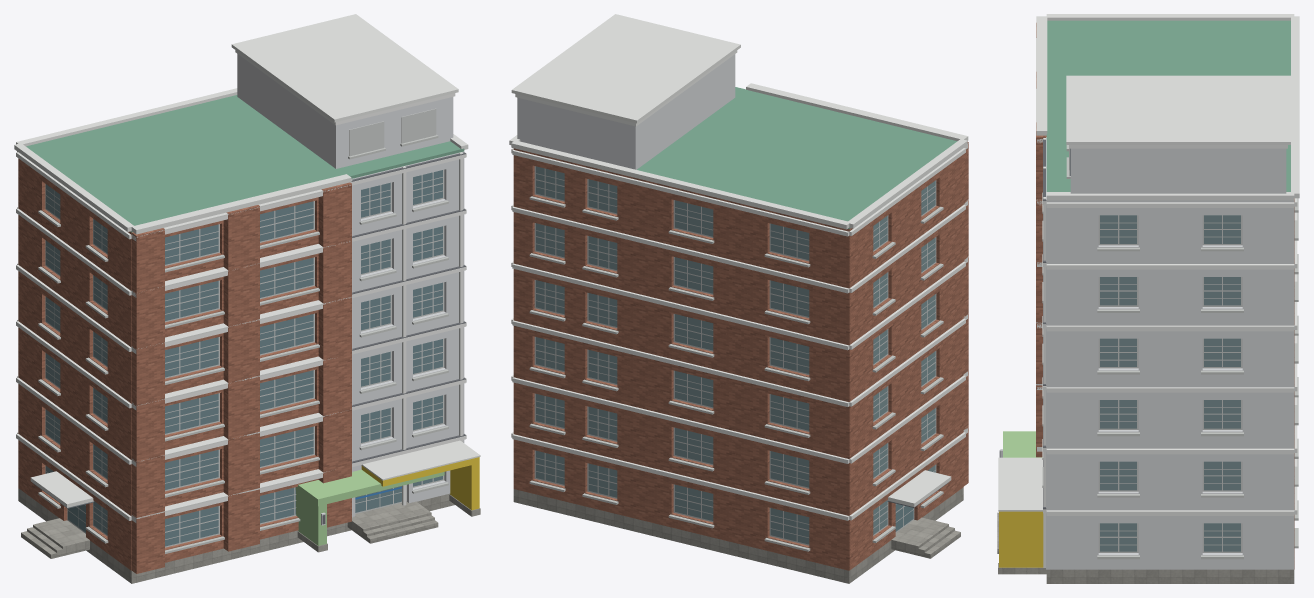
3 views of the same model, side by side, from view 1: azimuth 30°, elevation 25°; view 2: azimuth 150°, elevation 25°; view 3: azimuth 270°, elevation 25° (orthographic). The views are drawn at different scales.
Visible parts, largest first — view 1: west-wing__brick, west-wing__glass, west-wing__cap, west-wing__panel, west-wing__roof, west-wing__band, west-wing__frame, west-wing__sill, west-wing__stone, west-wing__sideglass, west-wing__applegreen, west-wing__yellow (+5 smaller); view 2: west-wing__brick, west-wing__sideglass, west-wing__roof, west-wing__cap, west-wing__band, west-wing__frame, west-wing__panel, west-wing__sill, west-wing__stone, west-wing__stair-west-side, west-wing__threshold-west-side; view 3: west-wing__panel, west-wing__cap, west-wing__roof, west-wing__sideglass, west-wing__band, west-wing__frame, west-wing__stone, west-wing__sill, west-wing__brick, west-wing__yellow, west-wing__applegreen.
Part boxes in pixels (x1,y1,x2,y2): west-wing__brick: (18,158,351,573); west-wing__glass: (68,170,442,546); west-wing__cap: (14,14,480,518); west-wing__panel: (237,54,464,525); west-wing__roof: (26,95,464,232); west-wing__band: (16,50,466,522); west-wing__frame: (45,108,444,547); west-wing__sill: (38,134,448,553); west-wing__stone: (18,488,480,583); west-wing__sideglass: (46,184,107,534); west-wing__applegreen: (295,469,444,545); west-wing__yellow: (361,457,479,510); west-wing__brick: (513,142,968,570); west-wing__sideglass: (536,166,935,544); west-wing__roof: (637,87,956,228); west-wing__cap: (509,14,968,507); west-wing__band: (511,50,967,520); west-wing__frame: (534,166,936,545); west-wing__panel: (517,54,735,169); west-wing__sill: (529,196,943,551); west-wing__stone: (513,487,963,583); west-wing__stair-west-side: (912,522,960,558); west-wing__threshold-west-side: (891,517,942,554); west-wing__panel: (1000,137,1294,569); west-wing__cap: (998,14,1299,511); west-wing__roof: (1046,20,1290,191); west-wing__sideglass: (1100,215,1240,551); west-wing__band: (1037,138,1297,567); west-wing__frame: (1069,148,1242,552); west-wing__stone: (998,563,1294,583); west-wing__sill: (1042,145,1298,559); west-wing__brick: (1036,23,1294,569); west-wing__yellow: (999,511,1043,567); west-wing__applegreen: (1003,431,1041,457).
Size of the model in its own units: 23.73 by 24.52 by 15.13.
Materials: 16 (2 with a texture image).
